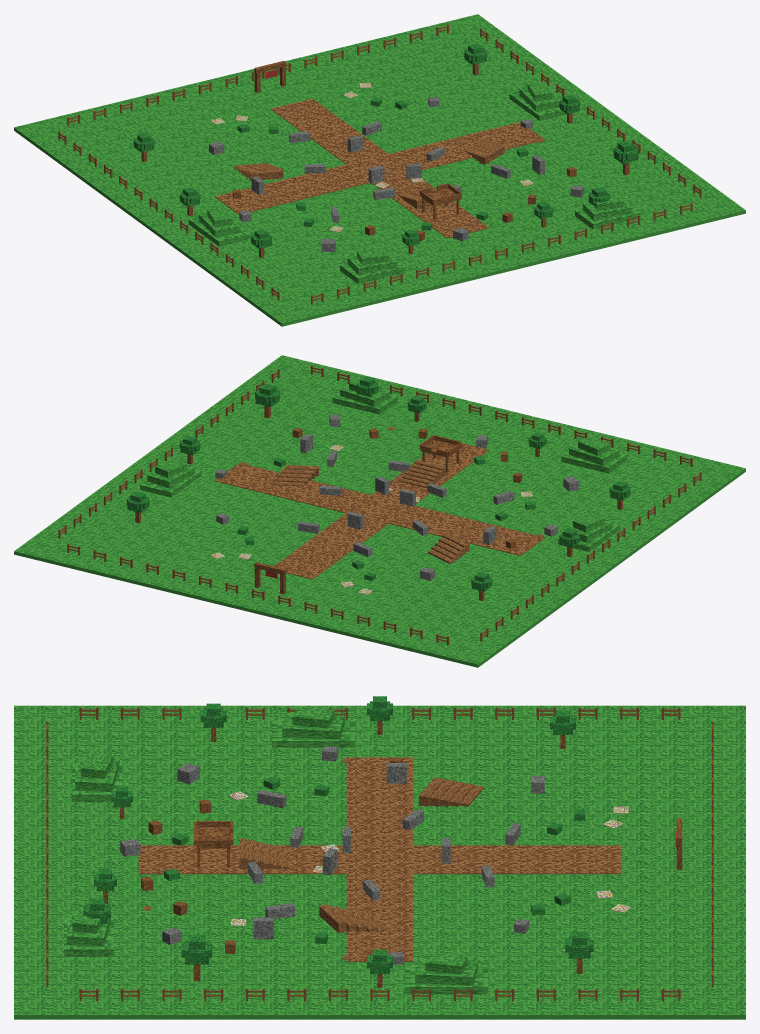
Rendered from stage.gltf.
3 renders of one model, top to bottom at view 1: azimuth 30°, elevation 25°; view 2: azimuth 150°, elevation 25°; view 3: azimuth 270°, elevation 25°, orthographic. The views are drawn at different scales.
Parts seen in each view (by area): view 1: Ground_BlockBase, DirtPath_EastWest_Block, DirtPath_NorthSouth_Block, Hill_LeftSide_Layer_01_Block, Hill_Back_Left_Layer_01_Block, Hill_Back_Right_Layer_01_Block, Hill_Back_Left_Layer_02_Block, Hill_Back_Right_Layer_02_Block, Hill_RightSide_Layer_01_Block; view 2: Ground_BlockBase, DirtPath_EastWest_Block, DirtPath_NorthSouth_Block, Hill_Back_Right_Layer_01_Block, Hill_Back_Left_Layer_01_Block, Hill_RightSide_Layer_01_Block, Hill_Back_Left_Layer_02_Block, Hill_Back_Right_Layer_02_Block; view 3: Ground_BlockBase, DirtPath_EastWest_Block, DirtPath_NorthSouth_Block, Hill_LeftSide_Layer_01_Block, Hill_RightSide_Layer_01_Block, Hill_LeftSide_Layer_02_Block, Hill_RightSide_Layer_02_Block, Hill_Back_Right_Layer_01_Block, Hill_RightSide_Layer_03_Block, Hill_LeftSide_Layer_03_Block, Hill_Back_Left_Layer_02_Block, Hill_Back_Left_Layer_01_Block (+3 smaller).
Boxes of the visible parts, x1,y1,x2,y2 form: Ground_BlockBase: (14, 14, 745, 326); DirtPath_EastWest_Block: (215, 122, 544, 214); DirtPath_NorthSouth_Block: (270, 98, 488, 238); Hill_LeftSide_Layer_01_Block: (188, 217, 250, 246); Hill_Back_Left_Layer_01_Block: (340, 261, 405, 283); Hill_Back_Right_Layer_01_Block: (575, 206, 640, 229); Hill_Back_Left_Layer_02_Block: (347, 251, 397, 274); Hill_Back_Right_Layer_02_Block: (583, 196, 632, 220); Hill_RightSide_Layer_01_Block: (509, 91, 566, 120); Ground_BlockBase: (14, 355, 745, 667); DirtPath_EastWest_Block: (215, 463, 544, 555); DirtPath_NorthSouth_Block: (274, 443, 489, 579); Hill_Back_Right_Layer_01_Block: (332, 392, 397, 414); Hill_Back_Left_Layer_01_Block: (561, 451, 626, 473); Hill_RightSide_Layer_01_Block: (140, 468, 201, 497); Hill_Back_Left_Layer_02_Block: (569, 443, 619, 465); Hill_Back_Right_Layer_02_Block: (340, 384, 390, 406); Ground_BlockBase: (14, 705, 745, 1019); DirtPath_EastWest_Block: (346, 757, 413, 961); DirtPath_NorthSouth_Block: (138, 845, 621, 874); Hill_LeftSide_Layer_01_Block: (272, 720, 354, 747); Hill_RightSide_Layer_01_Block: (405, 966, 487, 993); Hill_LeftSide_Layer_02_Block: (282, 712, 344, 739); Hill_RightSide_Layer_02_Block: (415, 958, 477, 985); Hill_Back_Right_Layer_01_Block: (64, 917, 113, 956); Hill_RightSide_Layer_03_Block: (425, 952, 467, 974); Hill_LeftSide_Layer_03_Block: (292, 706, 334, 728); Hill_Back_Left_Layer_02_Block: (75, 757, 119, 791); Hill_Back_Left_Layer_01_Block: (72, 763, 121, 802).
Bounding box in the file's own units: 88 × 6.06 × 88.
